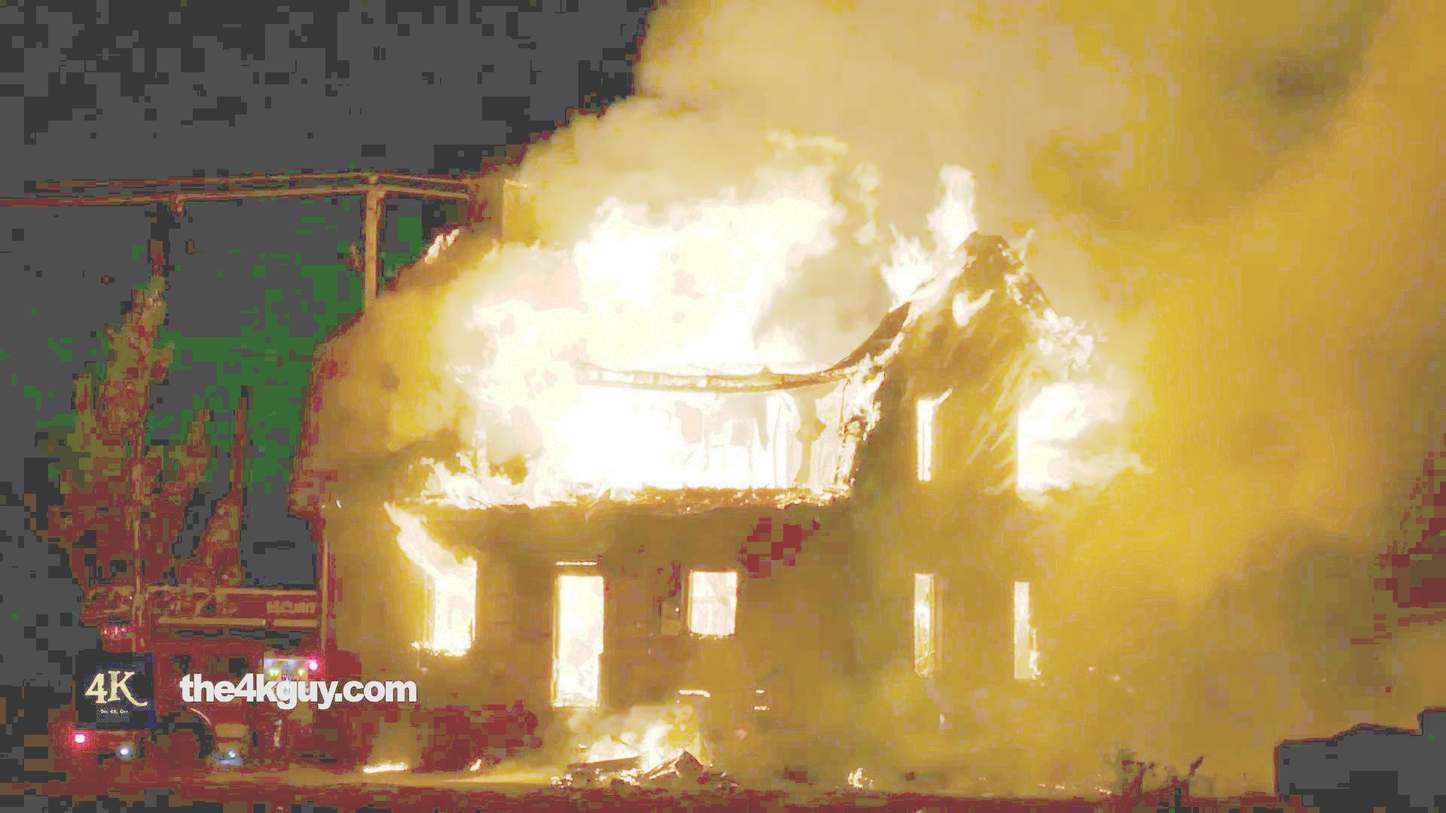fire: (382, 98, 870, 493), (1002, 330, 1145, 497), (373, 503, 474, 666), (882, 145, 983, 299)
